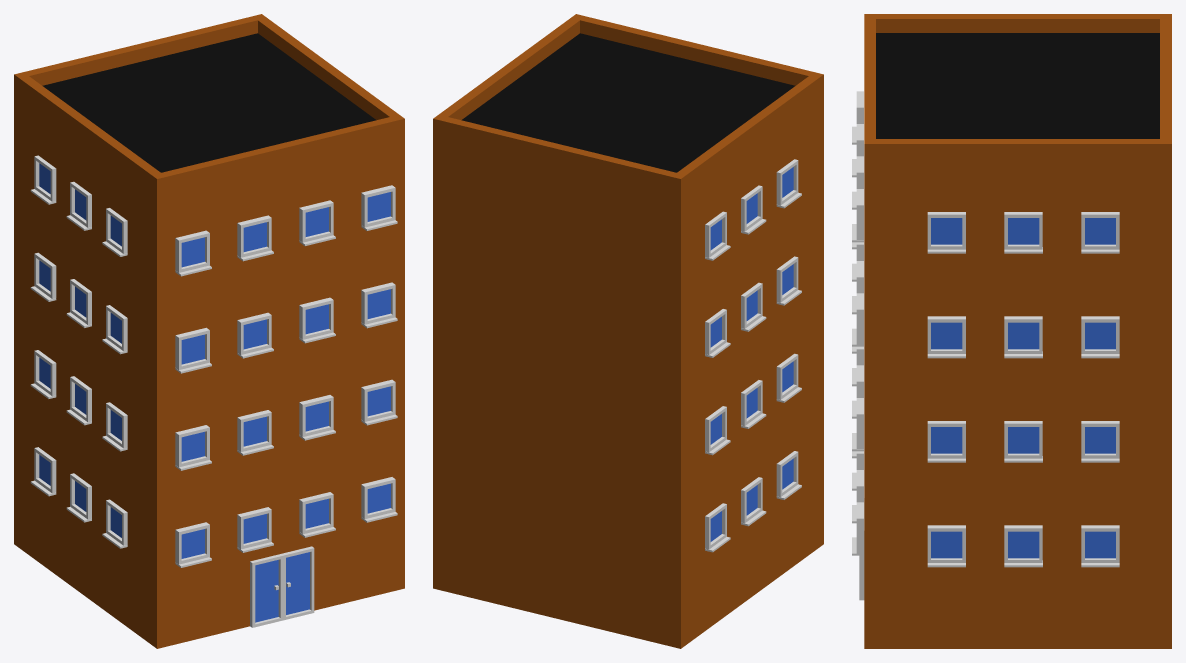
The model's file is bolk2.fbx.
The picture shows the model from 3 angles, left to right: view 1: azimuth 30°, elevation 25°; view 2: azimuth 150°, elevation 25°; view 3: azimuth 270°, elevation 25°; orthographic projection. The views are drawn at different scales.
Visible parts, largest first — view 1: Cube, Cube.021, Cube.002, Cube.022, Cube.029, Cube.006, Cube.008, Cube.025, Cube.026, Cube.028, Cube.001, Cube.003 (+18 smaller); view 2: Cube, Cube.012, Cube.018, Cube.036, Cube.039, Cube.037, Cube.019, Cube.020, Cube.040, Cube.017, Cube.038, Cube.041 (+1 smaller); view 3: Cube, Cube.009, Cube.010, Cube.030, Cube.031, Cube.011, Cube.032, Cube.013, Cube.014, Cube.015, Cube.033, Cube.034 (+5 smaller).
Part boxes in pixels (x1,y1,x2,y2): Cube: (14, 14, 404, 648); Cube.021: (250, 546, 314, 627); Cube.002: (299, 492, 335, 537); Cube.022: (361, 282, 397, 328); Cube.029: (175, 230, 211, 276); Cube.006: (299, 395, 335, 440); Cube.008: (175, 425, 211, 470); Cube.025: (175, 327, 211, 373); Cube.026: (361, 185, 397, 230); Cube.028: (237, 215, 273, 261); Cube.001: (361, 477, 397, 522); Cube.003: (237, 507, 273, 552); Cube: (433, 14, 823, 648); Cube.012: (776, 451, 801, 499); Cube.018: (776, 353, 801, 402); Cube.036: (776, 256, 801, 305); Cube.039: (776, 159, 801, 208); Cube.037: (741, 282, 766, 331); Cube.019: (741, 380, 766, 428); Cube.020: (705, 406, 730, 455); Cube.040: (741, 185, 766, 234); Cube.017: (705, 503, 730, 552); Cube.038: (705, 309, 730, 357); Cube.041: (705, 211, 730, 260); Cube: (864, 14, 1171, 648); Cube.009: (1081, 525, 1119, 567); Cube.010: (1004, 525, 1042, 567); Cube.030: (1081, 316, 1119, 358); Cube.031: (1004, 316, 1042, 358); Cube.011: (927, 525, 965, 567); Cube.032: (927, 316, 965, 358); Cube.013: (1081, 421, 1119, 462); Cube.014: (1004, 421, 1042, 462); Cube.015: (927, 421, 965, 462); Cube.033: (1081, 212, 1119, 253); Cube.034: (1004, 212, 1042, 253).
Size of the model in its own units: 854 by 1450 by 832.
